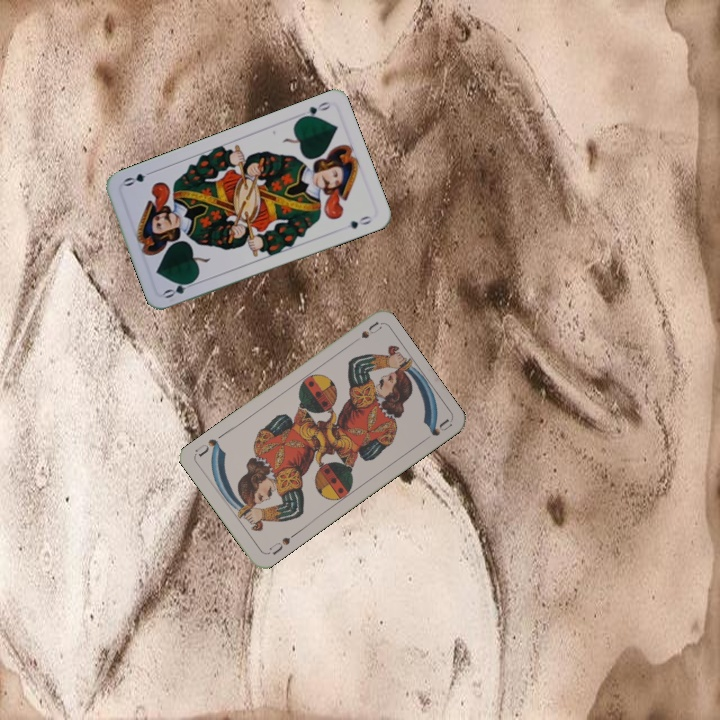GO: (160, 275, 199, 301), (295, 97, 334, 122)
SU: (346, 318, 383, 348), (263, 529, 299, 557)
